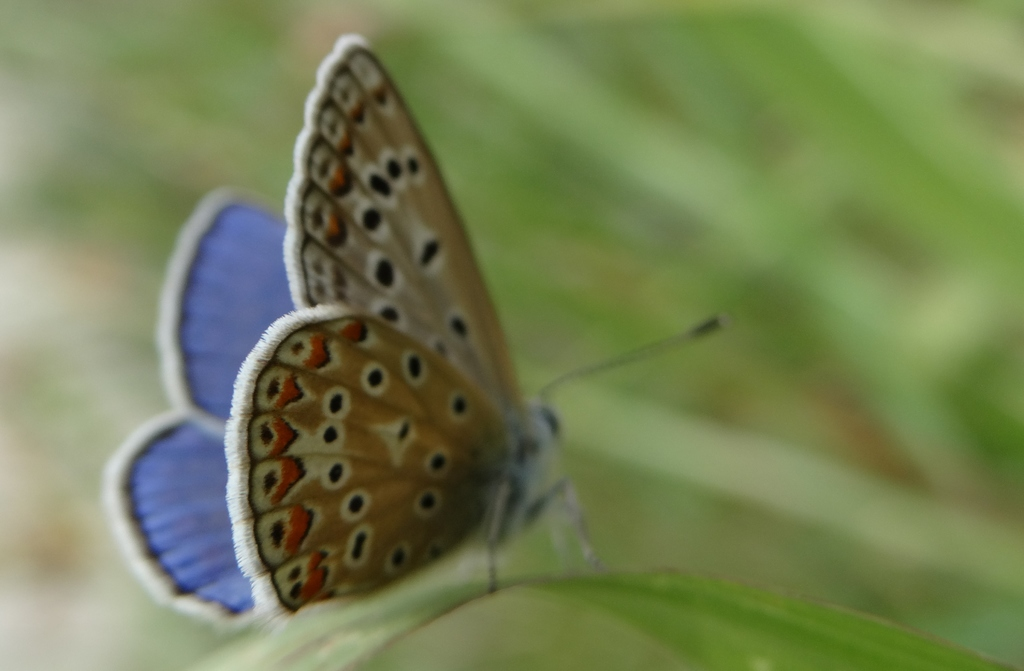Butterfly: (103, 34, 634, 626)
